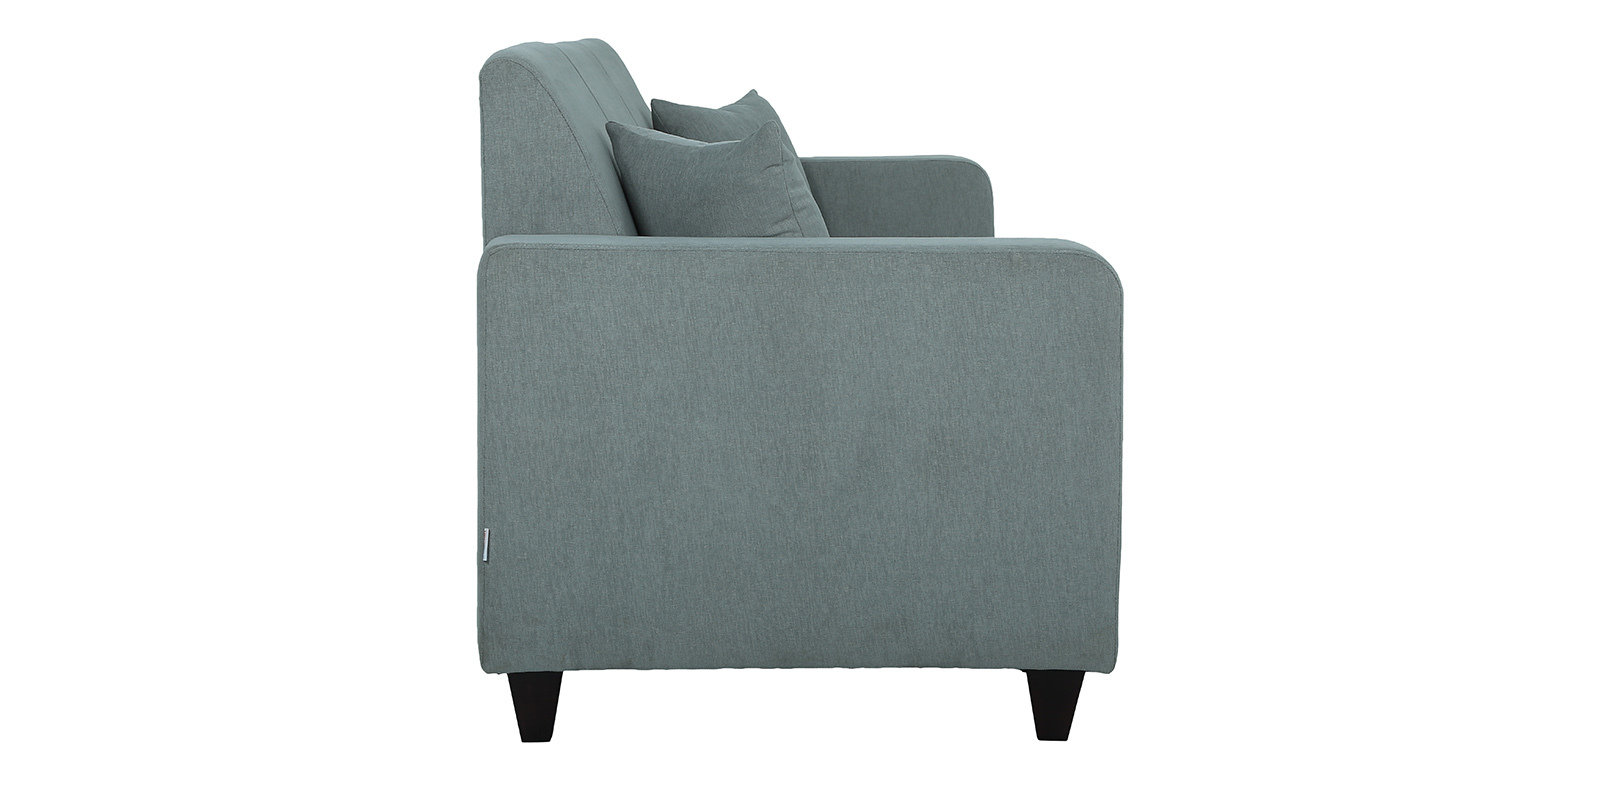Alba Three Seater Sofa in Ash Grey Colour by CasaCraft: (452, 28, 1128, 759)
